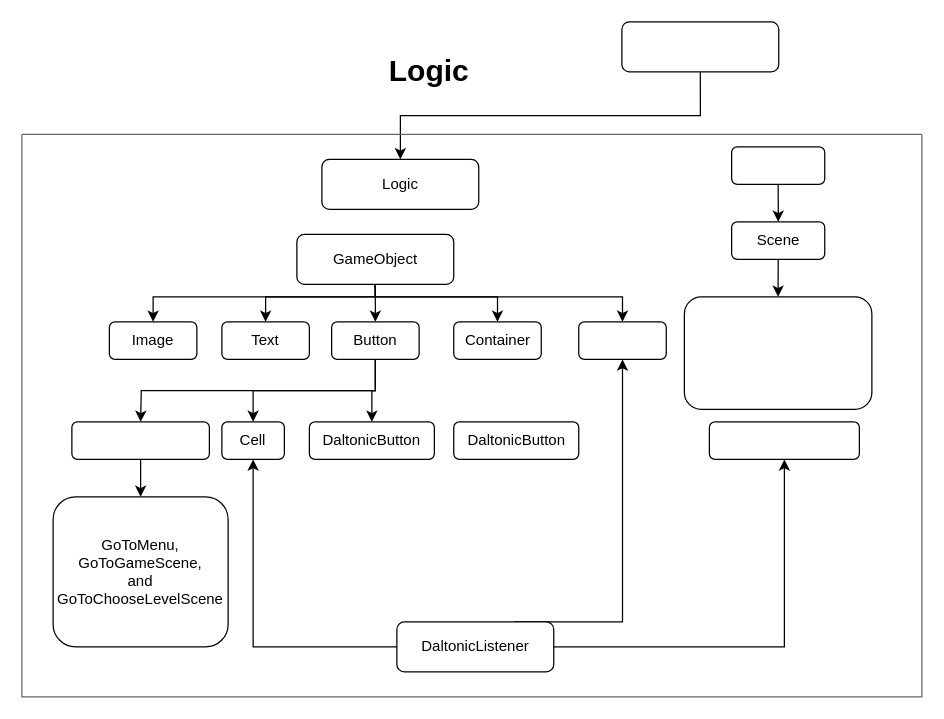
Some shapes in this 944 by 719 pixel diagram are drawn without their labels. The shapes that lost their labels are listed below. From the top down, each one's centre as x and y in pixels, then its label:
the point at 700,46: ILogic
the point at 777,165: IScene
the point at 622,340: Table
the point at 777,352: MenuScene, GameScene, ChooseLevelScene and WinScene
the point at 140,440: GoToSceneButton
the point at 783,440: ColouringCell
